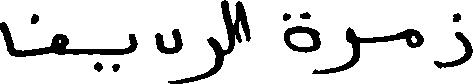X: (0, 9, 67, 61), (184, 0, 222, 83), (284, 7, 319, 78), (435, 8, 472, 73), (321, 22, 358, 78), (157, 24, 182, 83), (236, 0, 250, 47), (224, 0, 234, 60), (405, 24, 422, 52), (127, 29, 136, 58)
